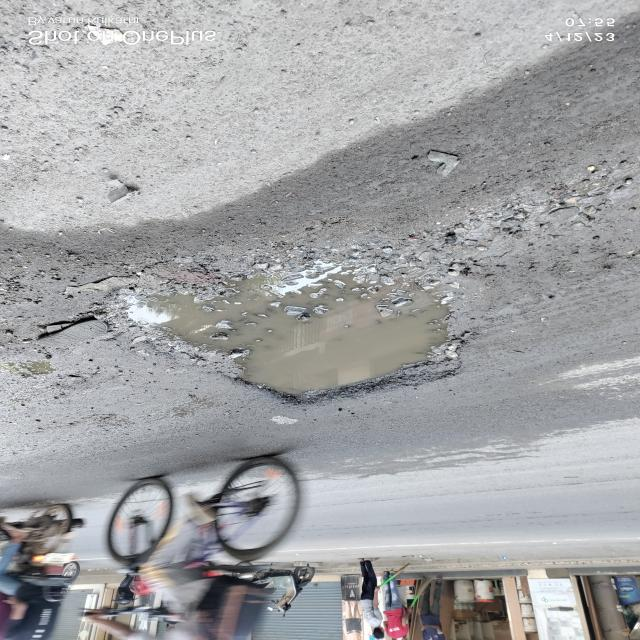Puddle pothole: (104, 249, 475, 406)
